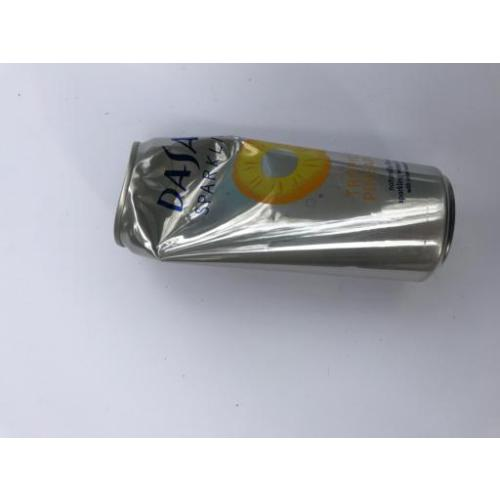metal: (117, 135, 456, 274)
